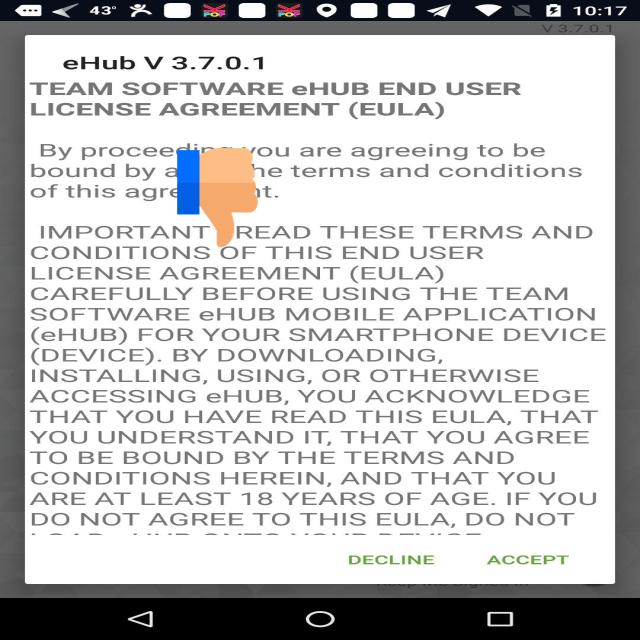obstruction: (177, 146, 258, 250)
